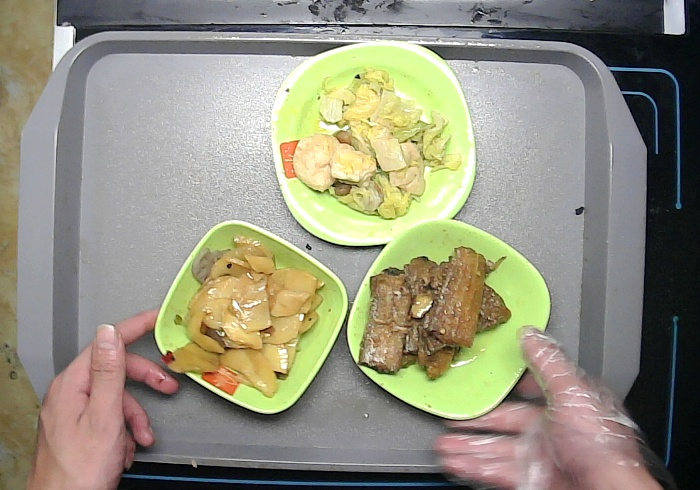SHKJ-Lv_Se_Cai_Die: (347, 219, 552, 423)
SHKJ-Lv_Se_Si_Fang_Cai_Die: (271, 40, 476, 247)
SHKJ-Lv_Se_Xiao_Fang_Die: (153, 219, 348, 418)
